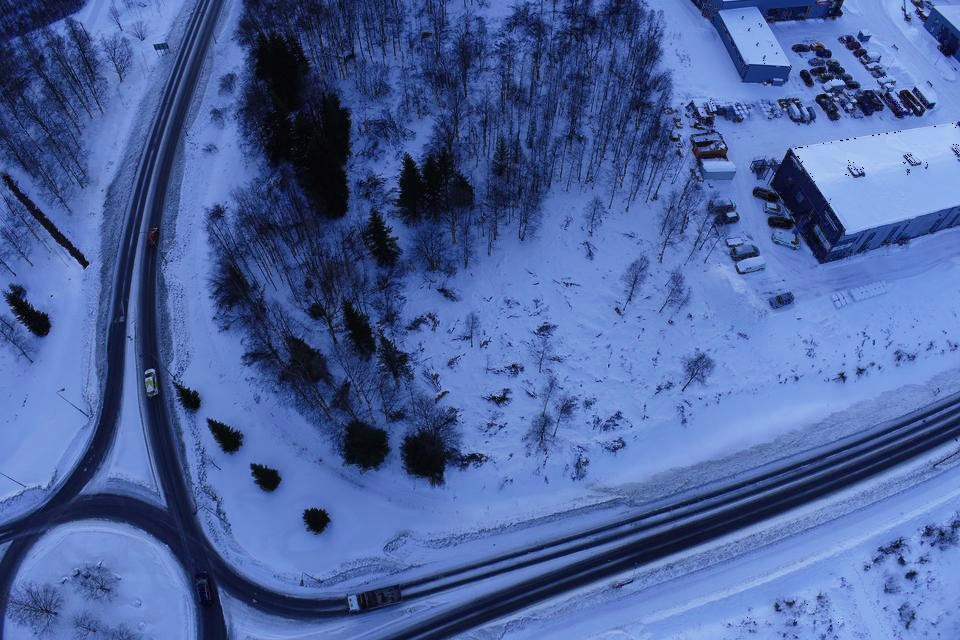roundabout: (0, 465, 281, 640)
